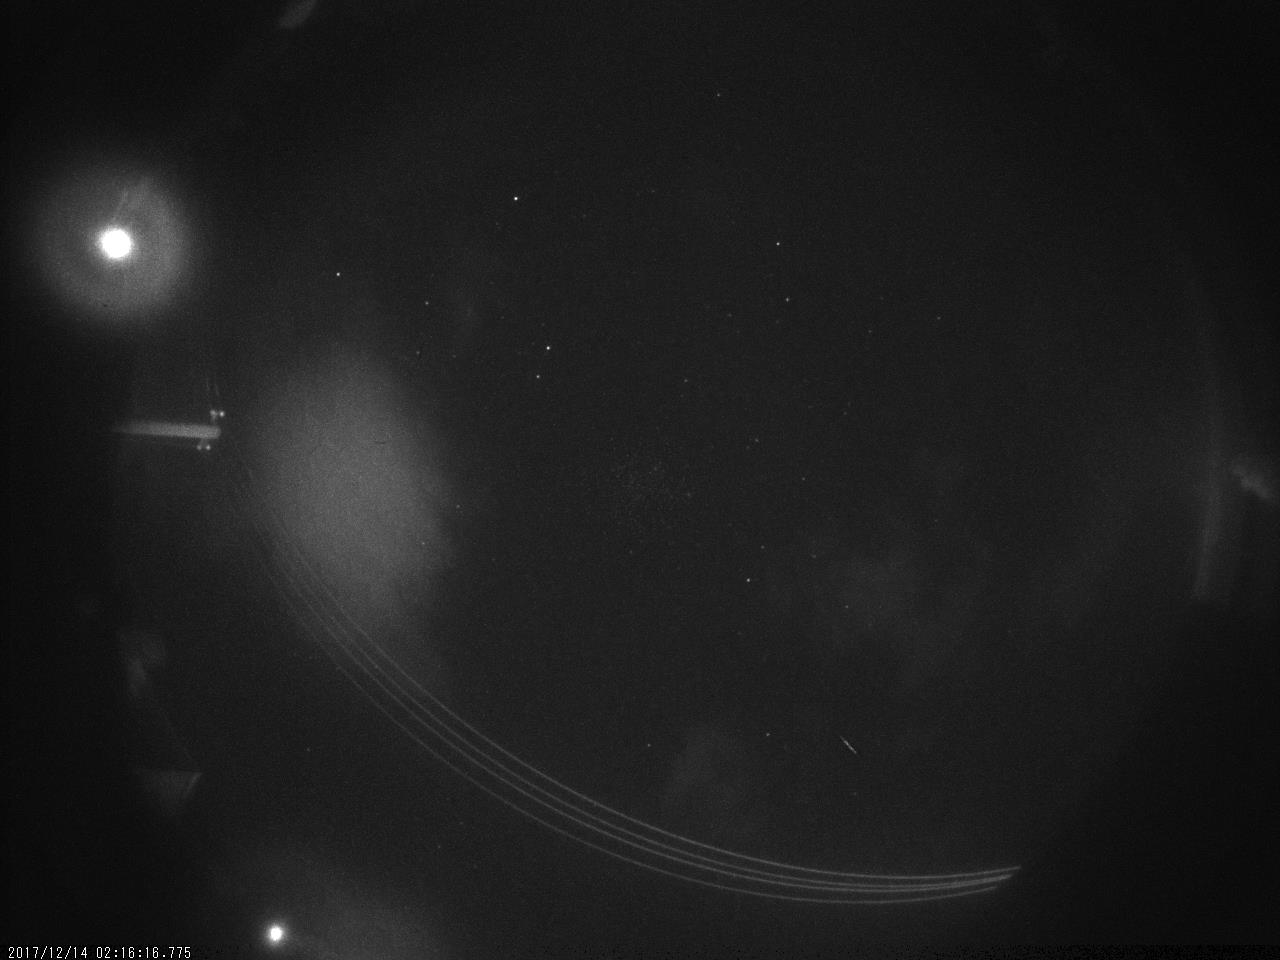meteor: (806, 727, 890, 771)
